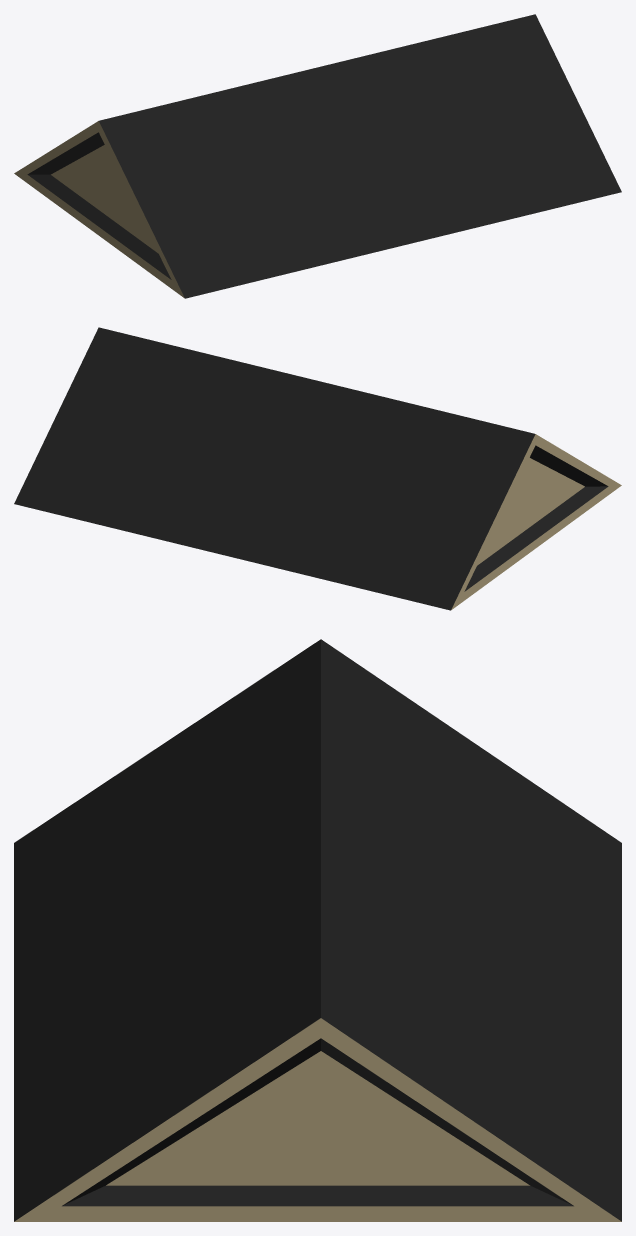
Rendered from roof3.fbx.
The picture shows the model from 3 angles, top to bottom: view 1: azimuth 30°, elevation 25°; view 2: azimuth 150°, elevation 25°; view 3: azimuth 270°, elevation 25°; orthographic projection. The views are drawn at different scales.
Visible parts, largest first — view 1: Cube.015; view 2: Cube.015; view 3: Cube.015.
Boxes of the visible parts, left/top/right/bottom form: Cube.015: left=14, top=14, right=621, bottom=298; Cube.015: left=14, top=327, right=621, bottom=610; Cube.015: left=14, top=639, right=621, bottom=1221.
Size of the model in its own units: 1327 by 333 by 900.
